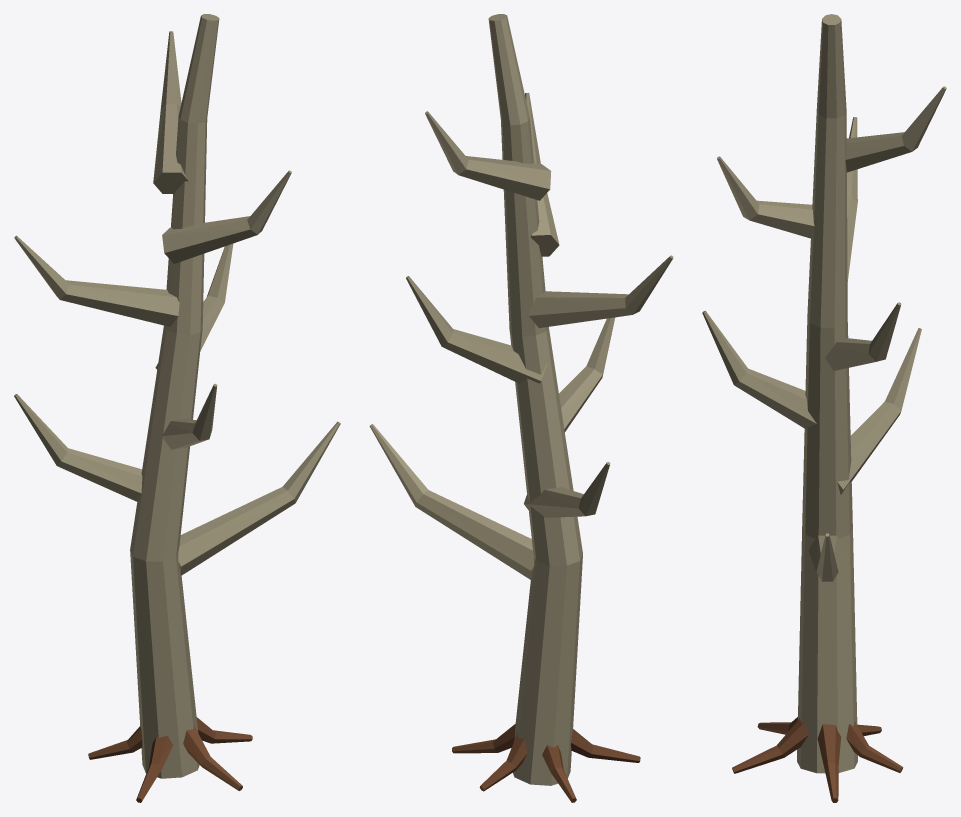
File: Plant_Common_DeadSnag_001.glb
3 renders of one model, left to right at view 1: azimuth 30°, elevation 25°; view 2: azimuth 150°, elevation 25°; view 3: azimuth 270°, elevation 25°, orthographic. The views are drawn at different scales.
Visible parts, largest first — view 1: Plant_Common_DeadSnag_001; view 2: Plant_Common_DeadSnag_001; view 3: Plant_Common_DeadSnag_001.
Boxes of the visible parts, x1,y1,x2,y2 form: Plant_Common_DeadSnag_001: (14, 14, 340, 802); Plant_Common_DeadSnag_001: (369, 14, 673, 802); Plant_Common_DeadSnag_001: (702, 14, 946, 802).
Bounding box in the file's own units: 2.71 × 6.13 × 1.77.
